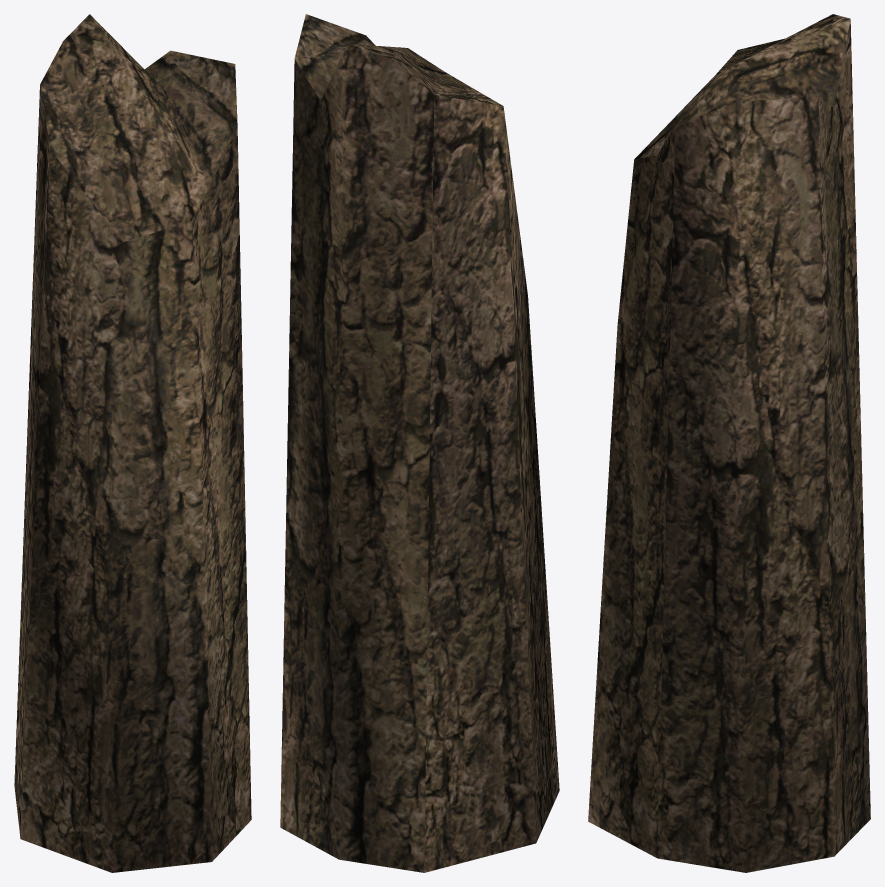
File: Vegetation_Deadtree02.glb
The picture shows the model from 3 angles, left to right: view 1: azimuth 30°, elevation 25°; view 2: azimuth 150°, elevation 25°; view 3: azimuth 270°, elevation 25°; orthographic projection. The views are drawn at different scales.
Parts seen in each view (by area): view 1: xiutz_deadtree02; view 2: xiutz_deadtree02; view 3: xiutz_deadtree02.
Part boxes in pixels (x1,y1,x2,y2): xiutz_deadtree02: (14, 14, 251, 872); xiutz_deadtree02: (280, 14, 559, 872); xiutz_deadtree02: (588, 14, 870, 872).
Size of the model in its own units: 1.57 by 5.09 by 1.62.
Materials: 1 (1 with a texture image).
